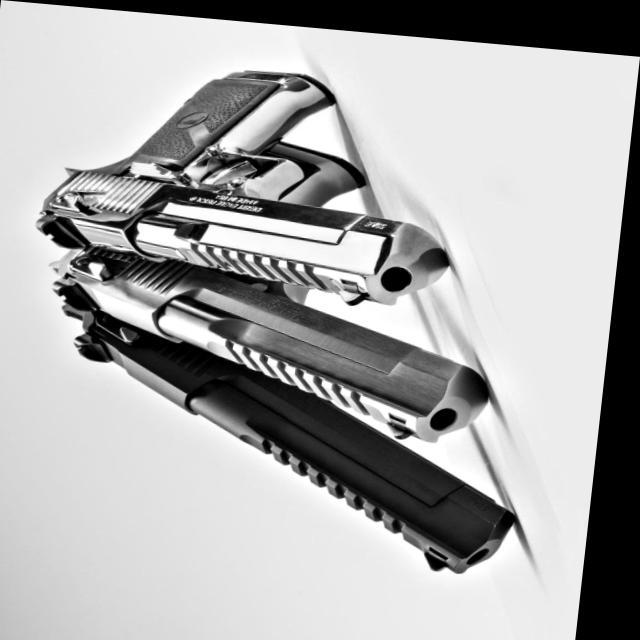handgun: (7, 50, 556, 567)
